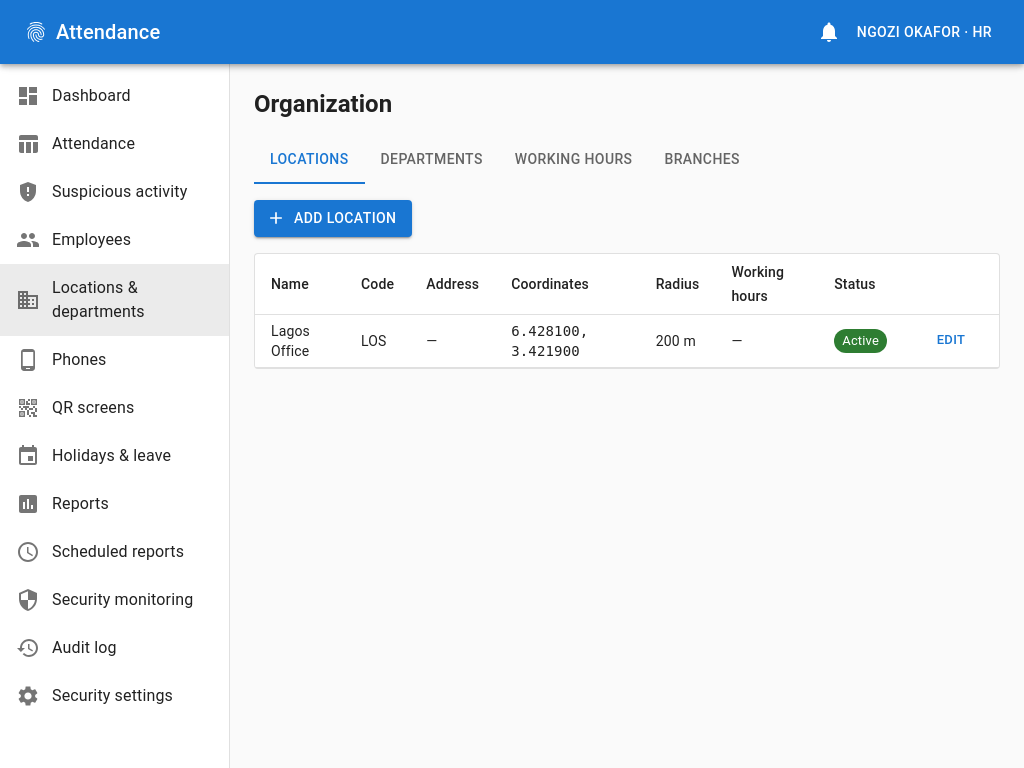
Test: Locations & departments › splits a pasted Google Maps "lat, lng" pair into both boxes
Click the button "Add location": (333, 218) [254,200,412,236]
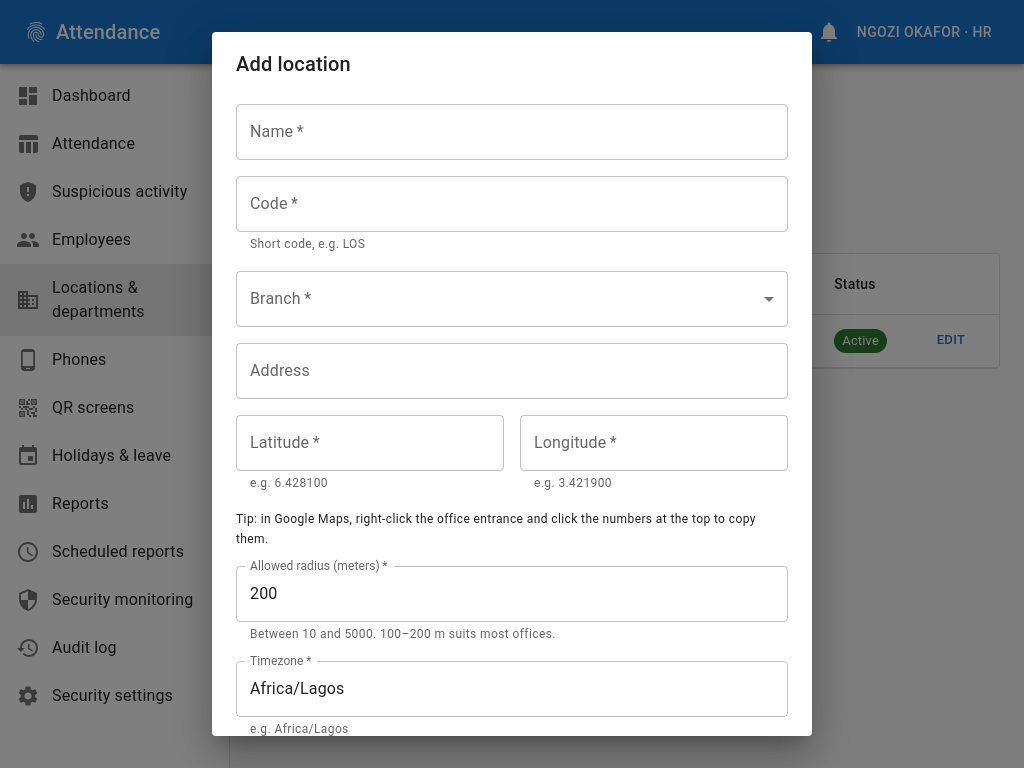
Click the field labelled "Latitude *": (370, 443) [236,415,504,471]
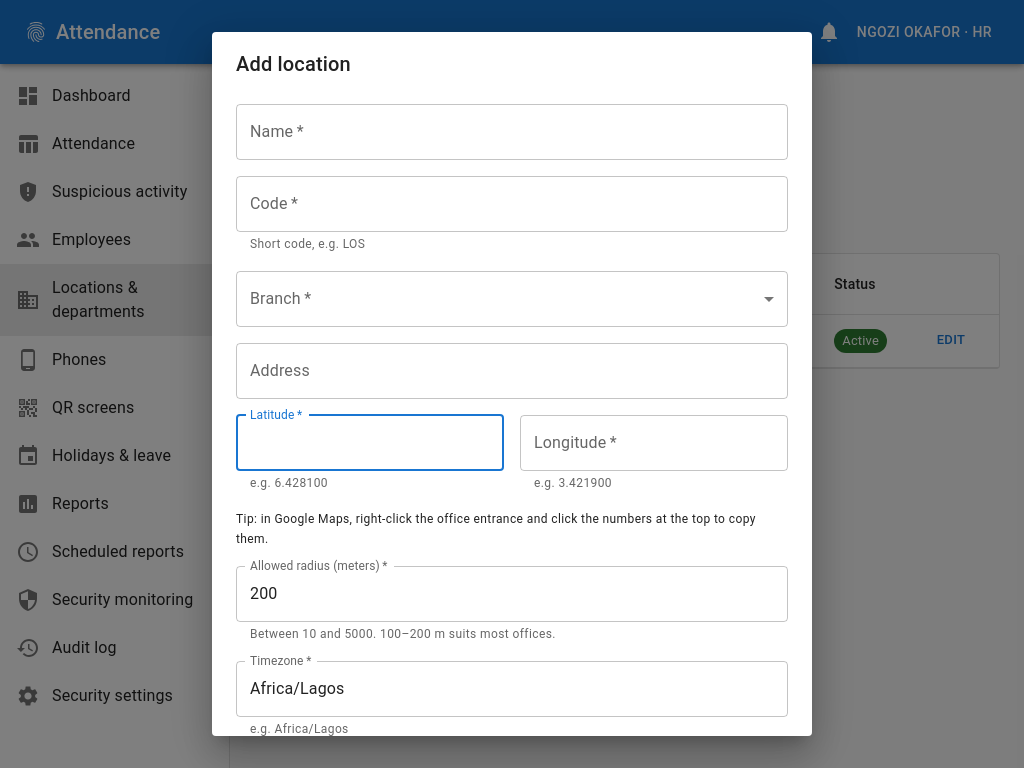
Type keys "30.044420193553, 31.235711842"
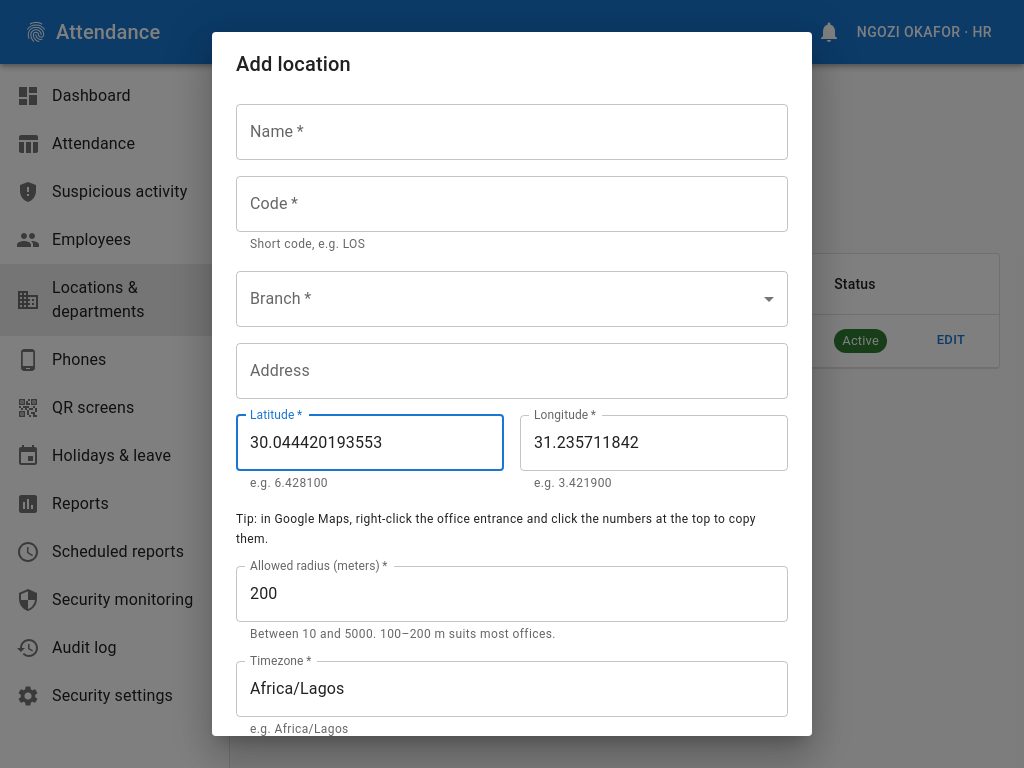
Result: the field labelled "Latitude *" holds "30.044420193553" at [236,415,504,471]
Result: the field labelled "Longitude *" holds "31.235711842" at [520,415,788,471]
